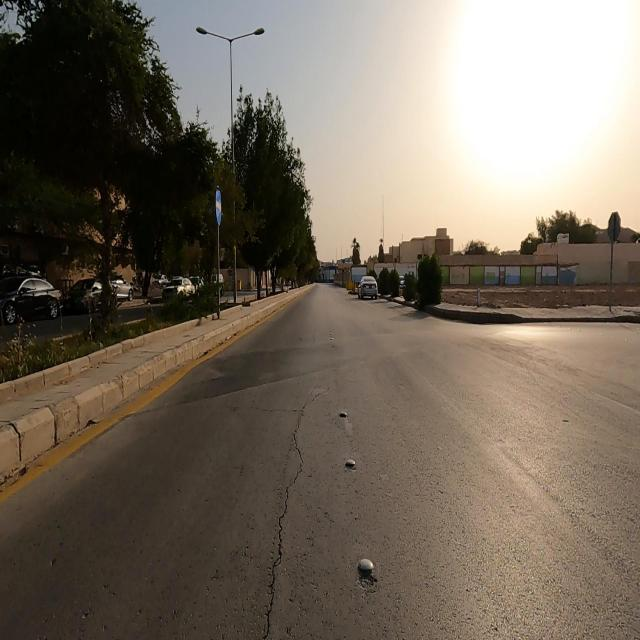debris: (512, 228, 590, 320), (490, 228, 546, 326), (460, 231, 518, 320), (422, 238, 487, 310)
